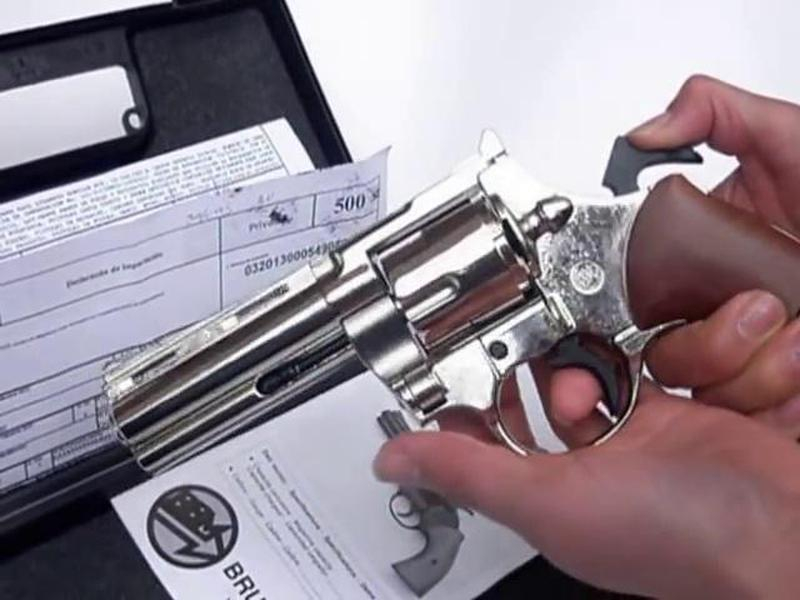Revolver: (109, 119, 717, 474)
